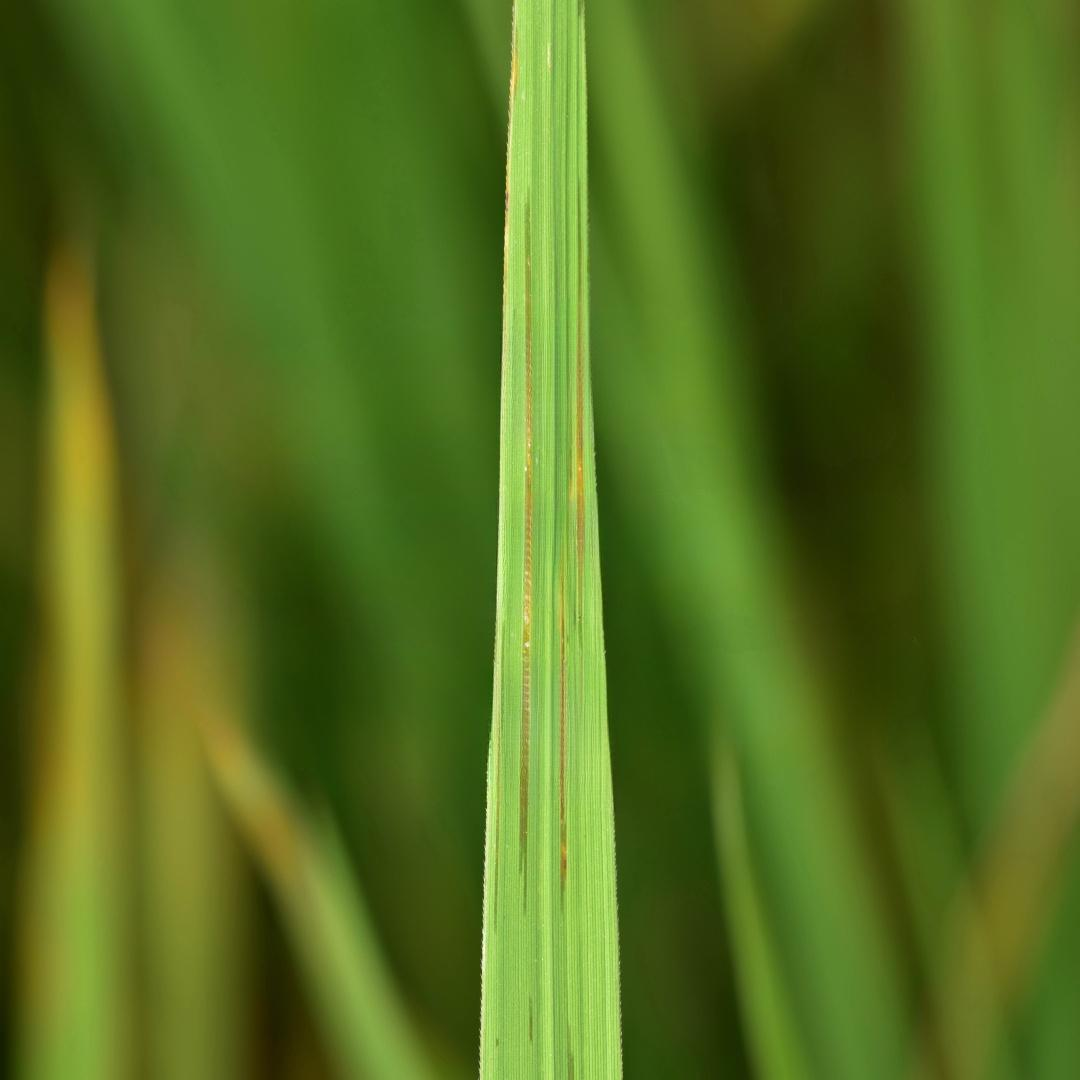BLS: (519, 192, 531, 919), (501, 2, 517, 370), (576, 159, 583, 656), (559, 556, 567, 911), (569, 449, 573, 518)
